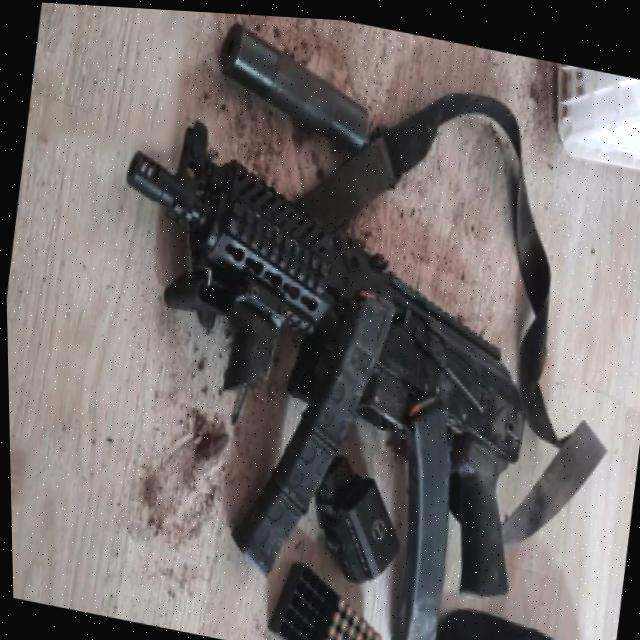firearm: (75, 104, 561, 600)
